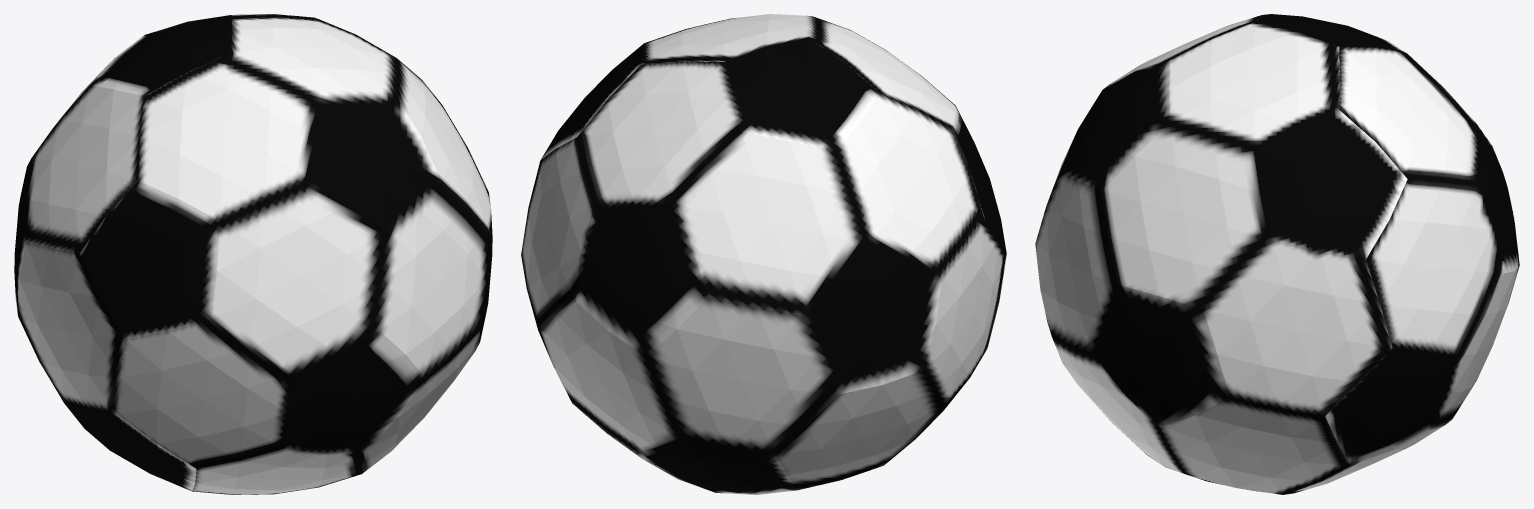
The model's file is ball.dae.
3 views of the same model, side by side, from view 1: azimuth 30°, elevation 25°; view 2: azimuth 150°, elevation 25°; view 3: azimuth 270°, elevation 25° (orthographic).
Parts seen in each view (by area): view 1: Sphere_soccerball; view 2: Sphere_soccerball; view 3: Sphere_soccerball.
Part boxes in pixels (bbox=[...]): Sphere_soccerball: bbox=[14, 14, 492, 494]; Sphere_soccerball: bbox=[521, 14, 1006, 494]; Sphere_soccerball: bbox=[1035, 14, 1519, 494].
Size of the model in its own units: 1.92 by 1.99 by 1.97.
